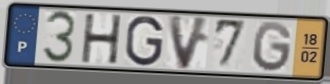3: (40, 9, 78, 66)
7: (212, 17, 250, 73)
G: (252, 19, 295, 74), (124, 14, 165, 68)
H: (80, 13, 125, 66)
V: (166, 13, 213, 72)
